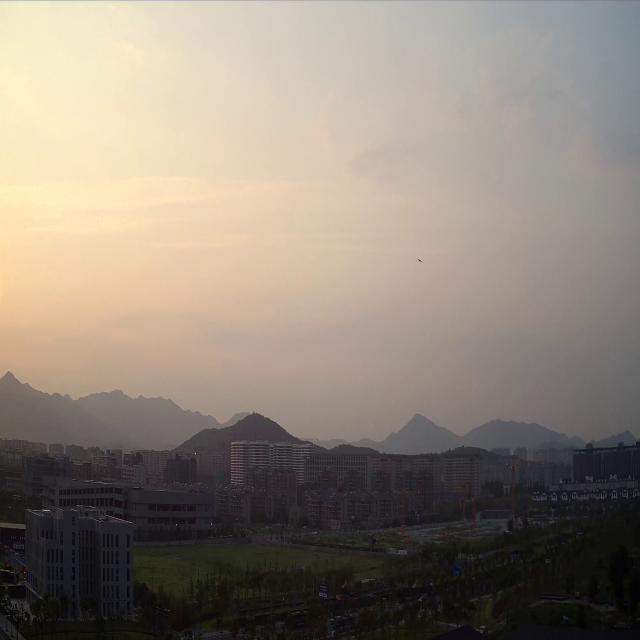drone: (417, 595, 430, 604)
